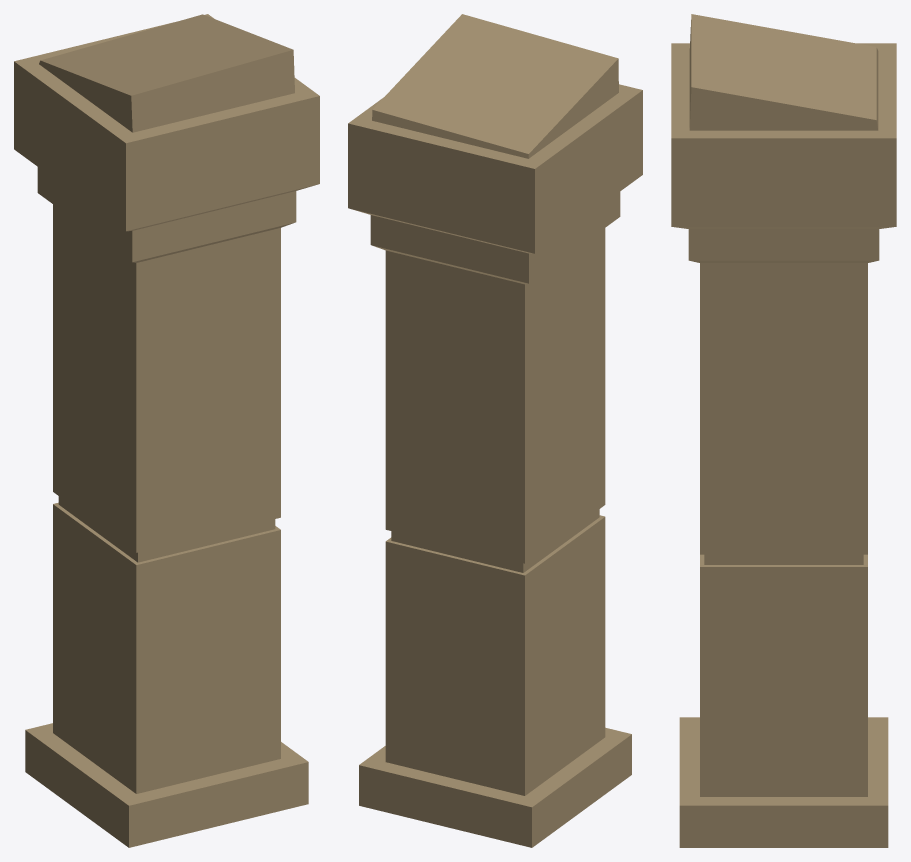
The model's file is ruine1.fbx.
3 views of the same model, side by side, from view 1: azimuth 30°, elevation 25°; view 2: azimuth 150°, elevation 25°; view 3: azimuth 270°, elevation 25° (orthographic). The views are drawn at different scales.
Visible parts, largest first — view 1: Ruine1; view 2: Ruine1; view 3: Ruine1.
Boxes of the visible parts, bbox=[...] form: Ruine1: bbox=[14, 14, 319, 847]; Ruine1: bbox=[348, 14, 642, 847]; Ruine1: bbox=[671, 14, 896, 847].
Size of the model in its own units: 216 by 800 by 216.
